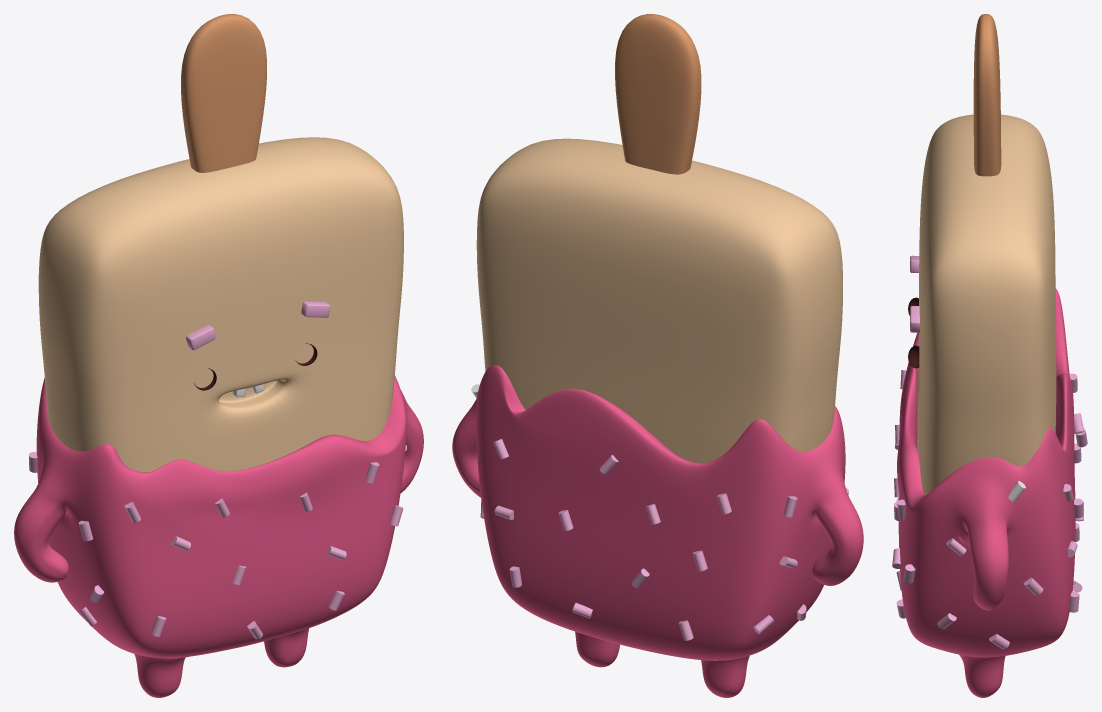
The model's file is crying2.fbx.
3 views of the same model, side by side, from view 1: azimuth 30°, elevation 25°; view 2: azimuth 150°, elevation 25°; view 3: azimuth 270°, elevation 25° (orthographic). The views are drawn at different scales.
Parts seen in each view (by area): view 1: Cube, Cube.001, Plane, Cube.002; view 2: Cube, Cube.001, Plane; view 3: Cube, Cube.001, Plane, Cube.002, Sphere.
Part boxes in pixels (x1,y1,x2,y2): Cube: (38,137,403,472); Cube.001: (14,375,423,697); Plane: (181,14,266,172); Cube.002: (186,301,330,350); Cube: (476,138,842,463); Cube.001: (452,365,863,697); Plane: (615,14,701,174); Cube: (917,114,1056,494); Cube.001: (897,288,1075,697); Plane: (973,14,1001,176); Cube.002: (910,255,919,332); Sphere: (908,297,919,368).
Size of the model in its own units: 451 by 706 by 193.
